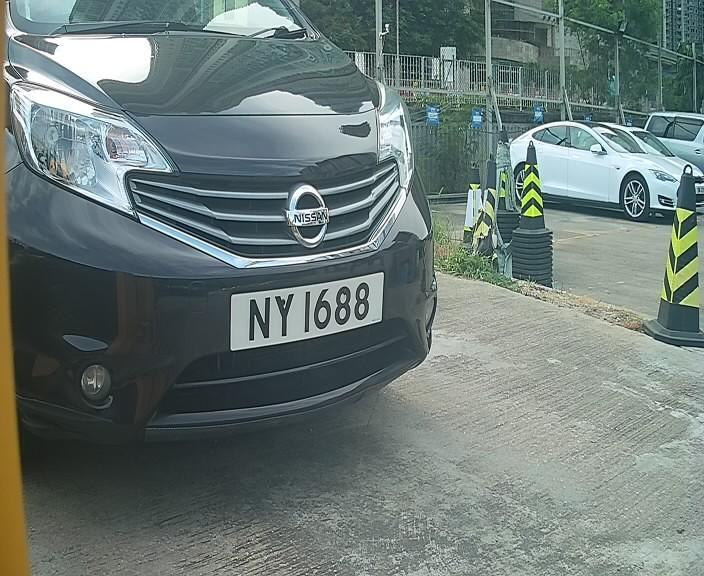privatecar: (1, 3, 459, 448)
